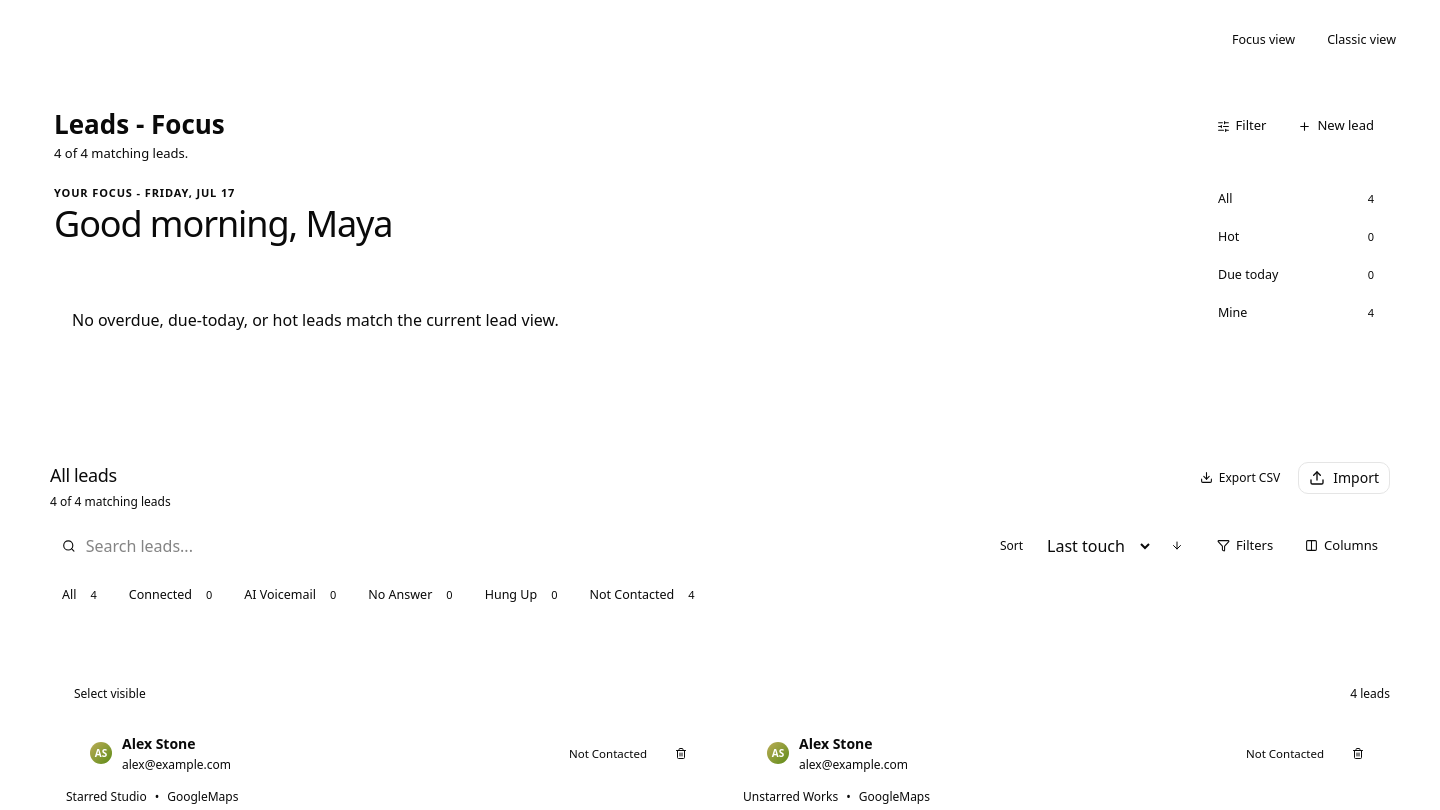
it: LeadsList › filters favorites to only starred leads from the focus sort control
The width and height of the screenshot is (1440, 810).
Select "Favorites" in the dropdown named "Sort leads by" at {"x": 1092, "y": 546}, box [1031,527,1153,565]
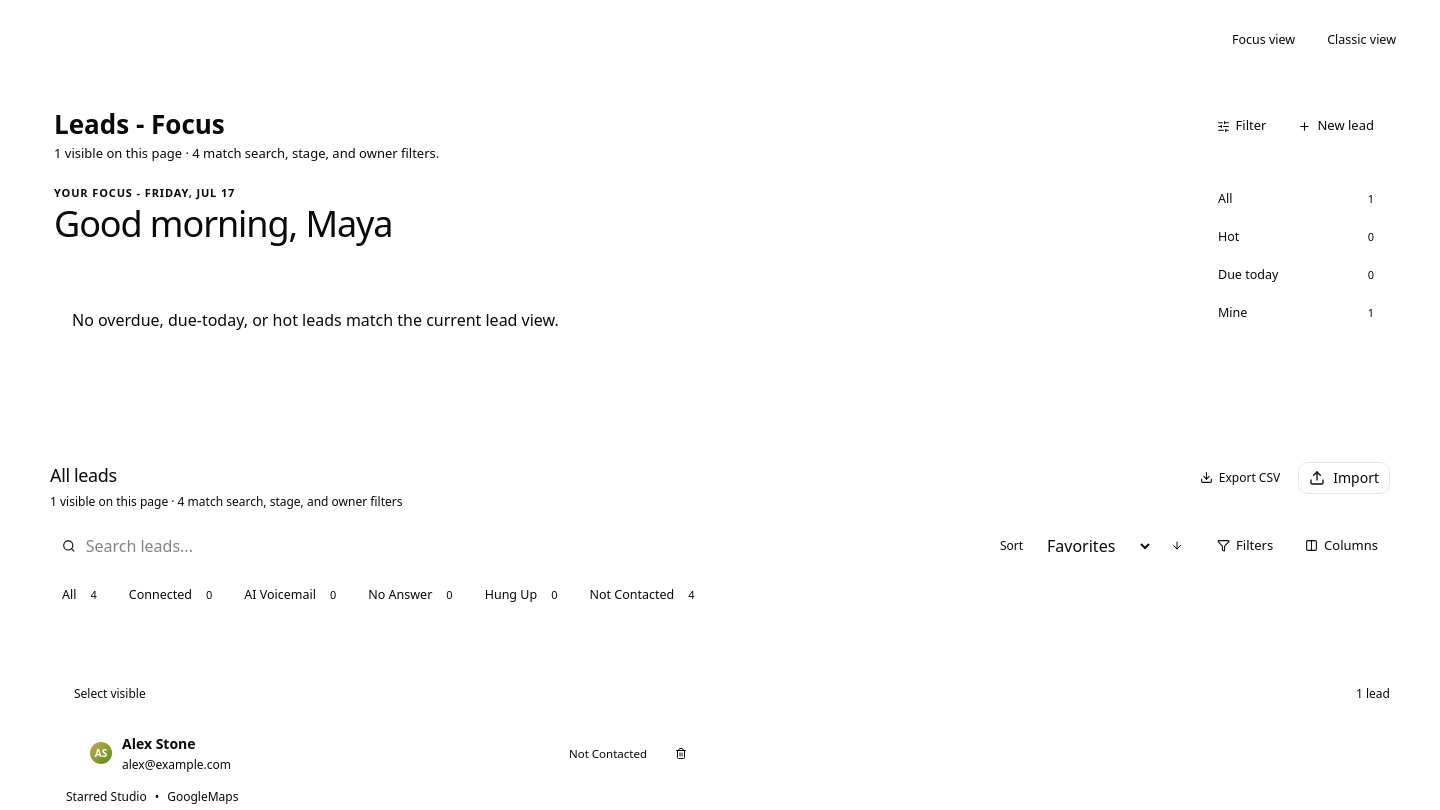
Check: the text "Starred Studio" is shown, box [66,788,147,806]
Check: the button "Unstarred Works" is gone
